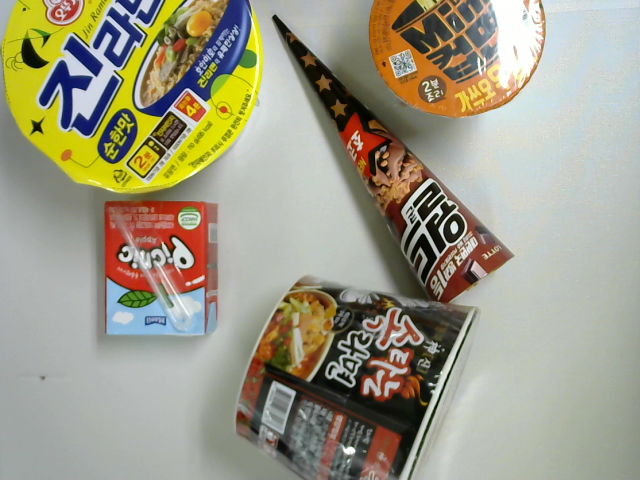HeJangsock: (225, 271, 483, 480)
Jinlamyeon_Mild_Taste_Large_Cup: (1, 1, 267, 200)
Picnic_Apple: (95, 192, 232, 355)
Udongmini: (366, 1, 564, 123)
World_Cone_Choco: (269, 10, 519, 324)
